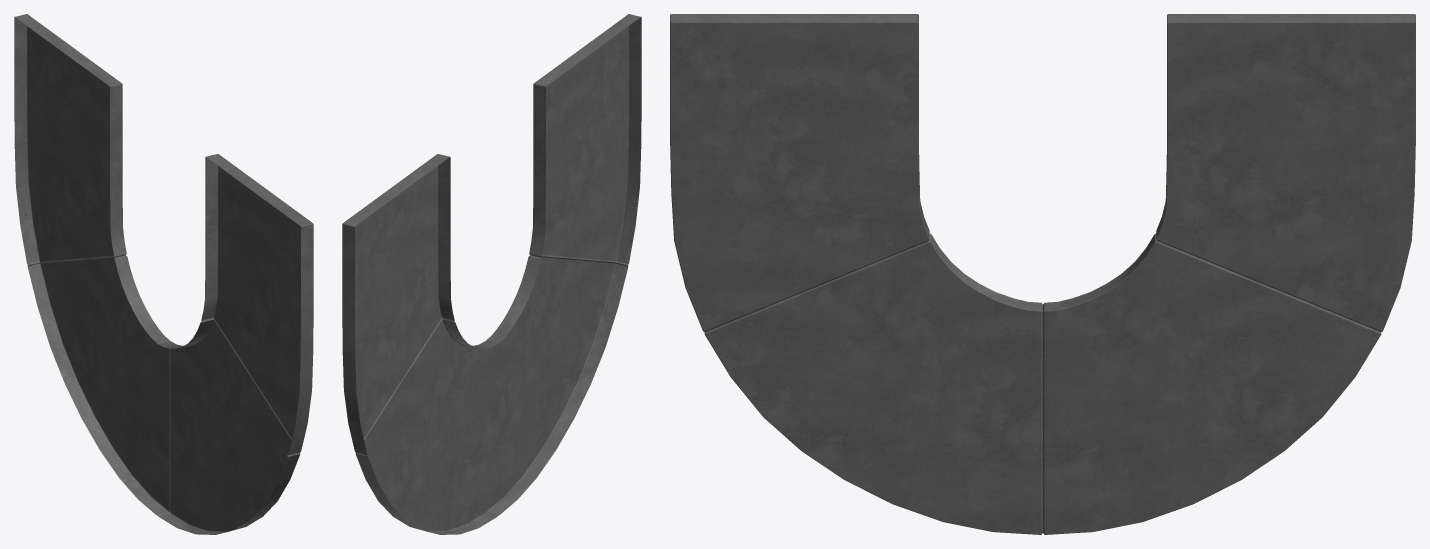
Rendered from cP_Pathway04_03.dae.
The picture shows the model from 3 angles, left to right: view 1: azimuth 30°, elevation 25°; view 2: azimuth 150°, elevation 25°; view 3: azimuth 270°, elevation 25°; orthographic projection. The views are drawn at different scales.
Visible parts, largest first — view 1: cP_Pathway04_03.001; view 2: cP_Pathway04_03.001; view 3: cP_Pathway04_03.001.
Boxes of the visible parts, <box> form: cP_Pathway04_03.001: <box>14,14,313,534</box>; cP_Pathway04_03.001: <box>342,14,641,534</box>; cP_Pathway04_03.001: <box>670,14,1415,534</box>.
Bounding box in the file's own units: 0.3104 × 12 × 9.11.
